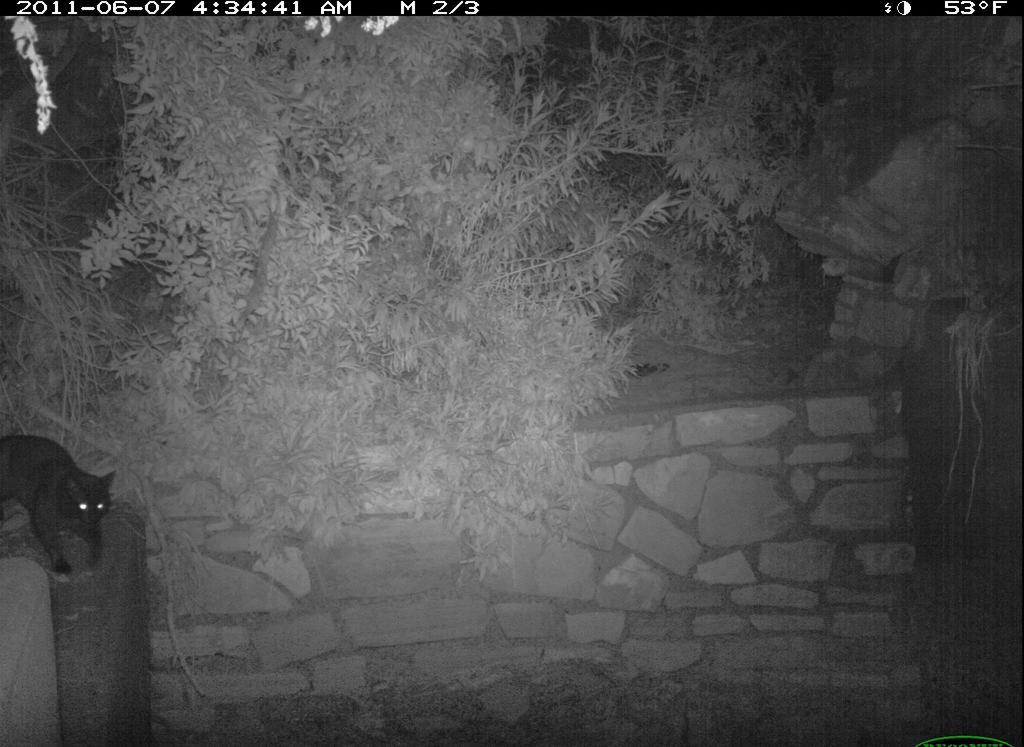cat: (1, 424, 125, 591)
